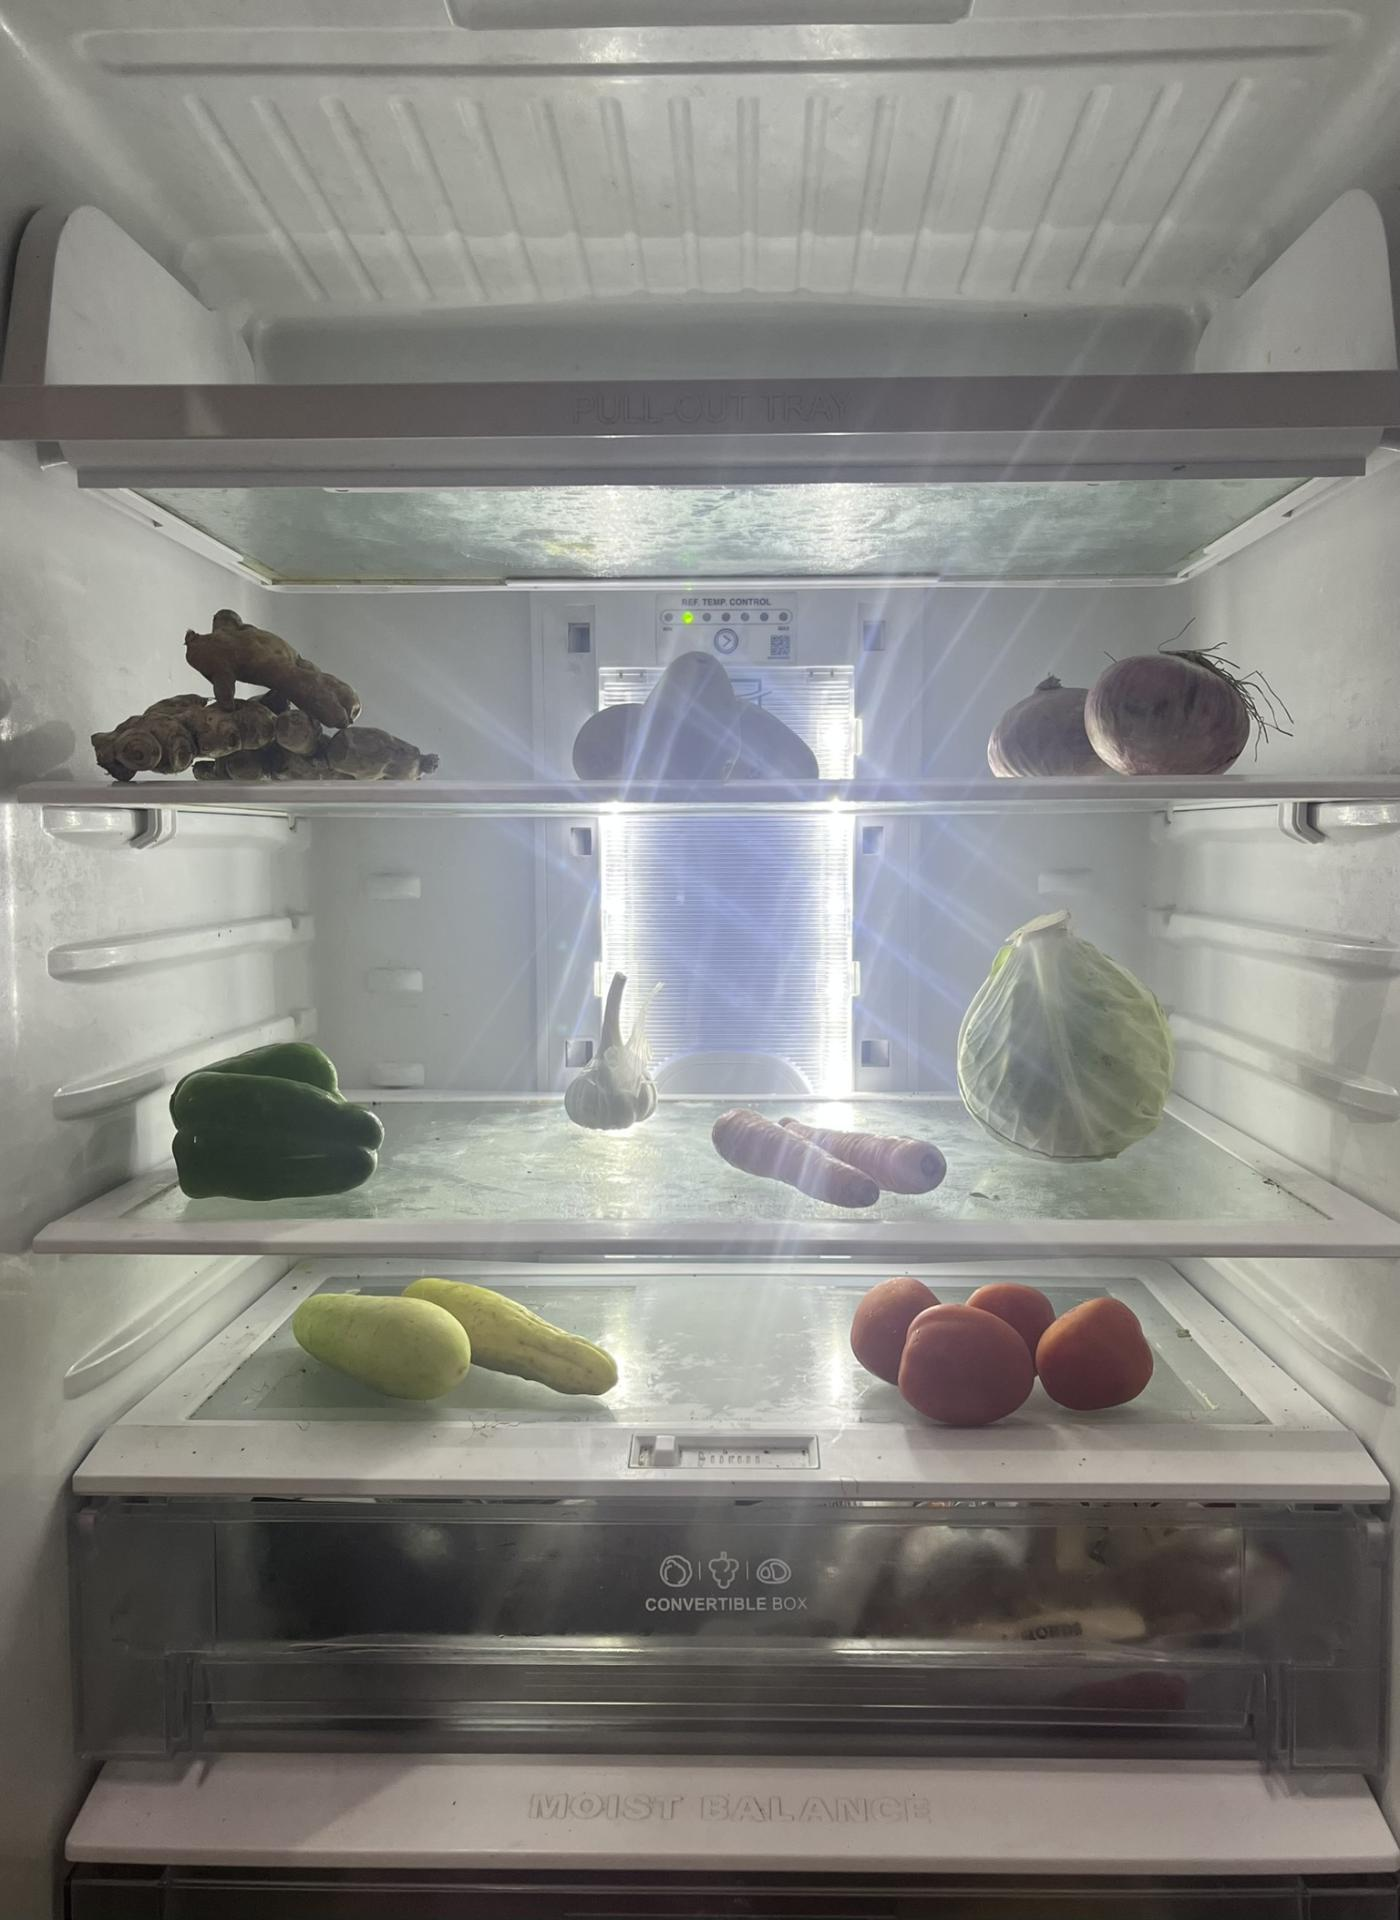cabbage: (945, 900, 1182, 1169)
capsicum: (158, 1040, 395, 1194)
carrots: (699, 1109, 960, 1215)
cucumber: (289, 1278, 635, 1400)
garlic: (571, 969, 662, 1131)
ginger: (94, 604, 441, 781)
onion: (996, 644, 1258, 778)
potato: (556, 638, 842, 781)
tomato: (844, 1275, 1175, 1434)
